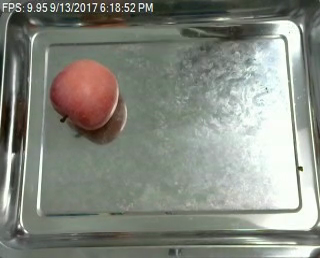Apple: (53, 61, 115, 129)
